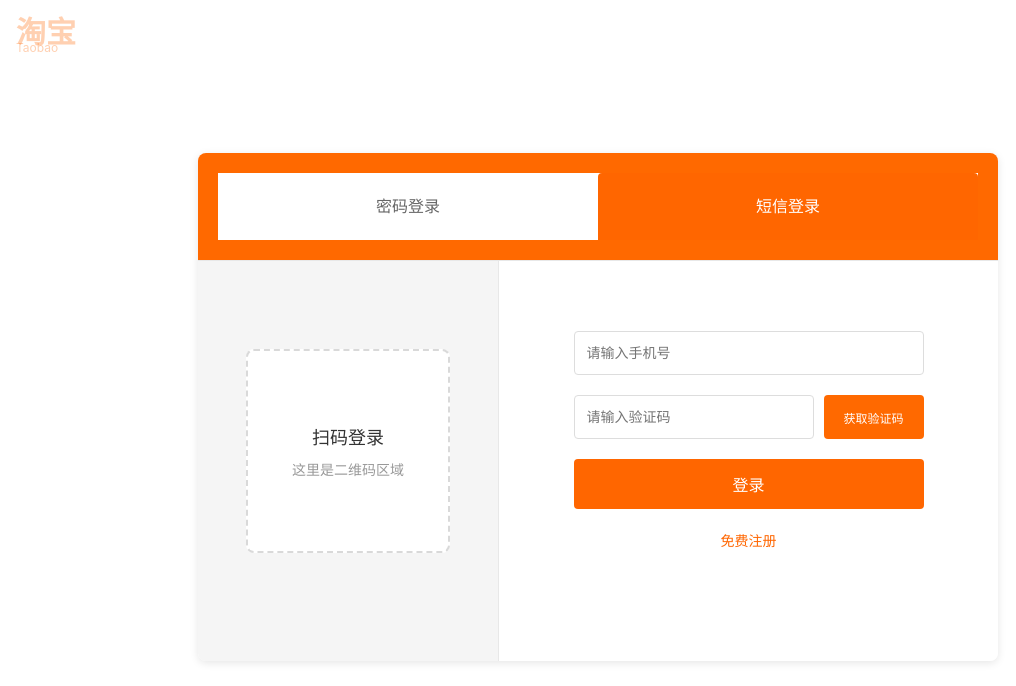
LoginForm › 应该正确处理网络错误
Type "13800138000" into the field with placeholder "请输入手机号". click: x=748, y=353
box: x1=574 y1=331 x2=924 y2=375
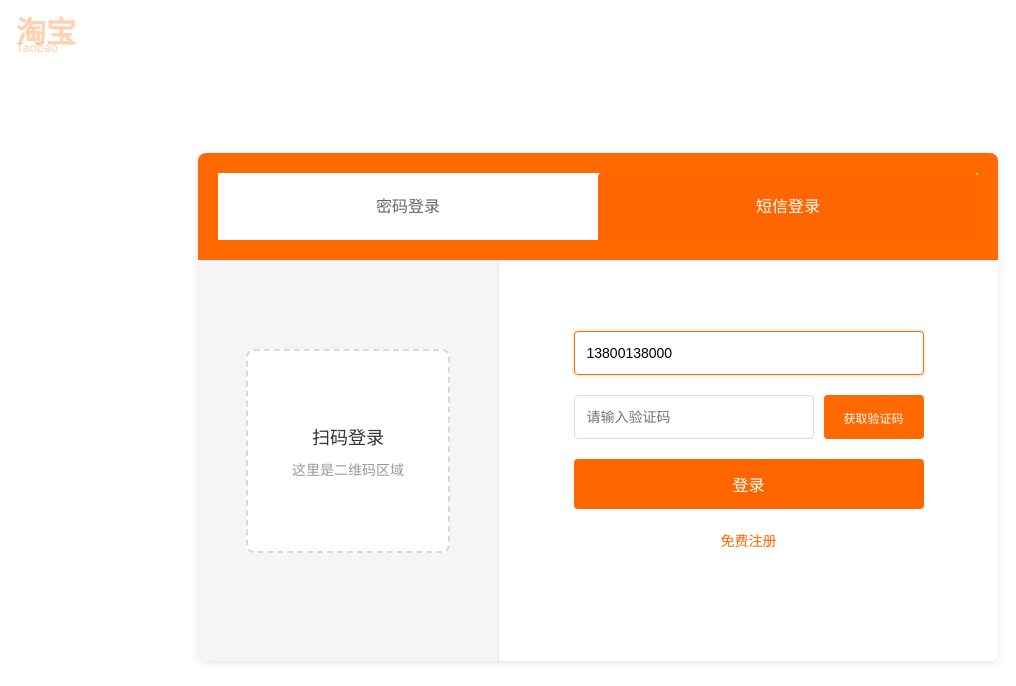
Type "123456" into the field with placeholder "请输入验证码". click: x=694, y=417
box: x1=574 y1=395 x2=814 y2=439
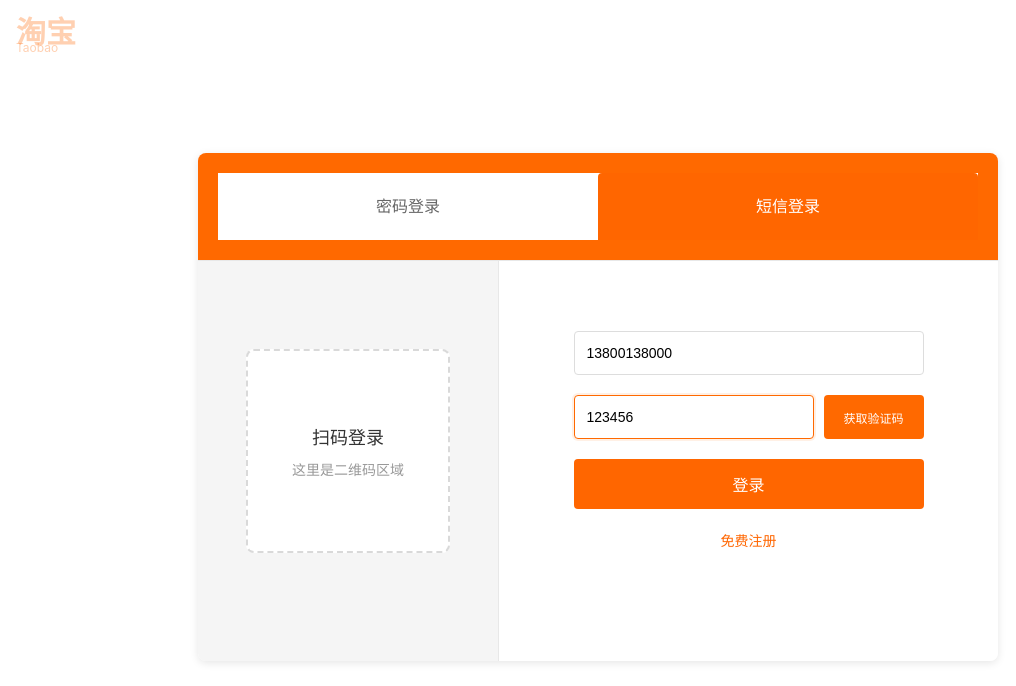
Note: 点击登录按钮并等待异步操作完成
Click the button "登录". click: x=748, y=484
box: x1=574 y1=459 x2=924 y2=509
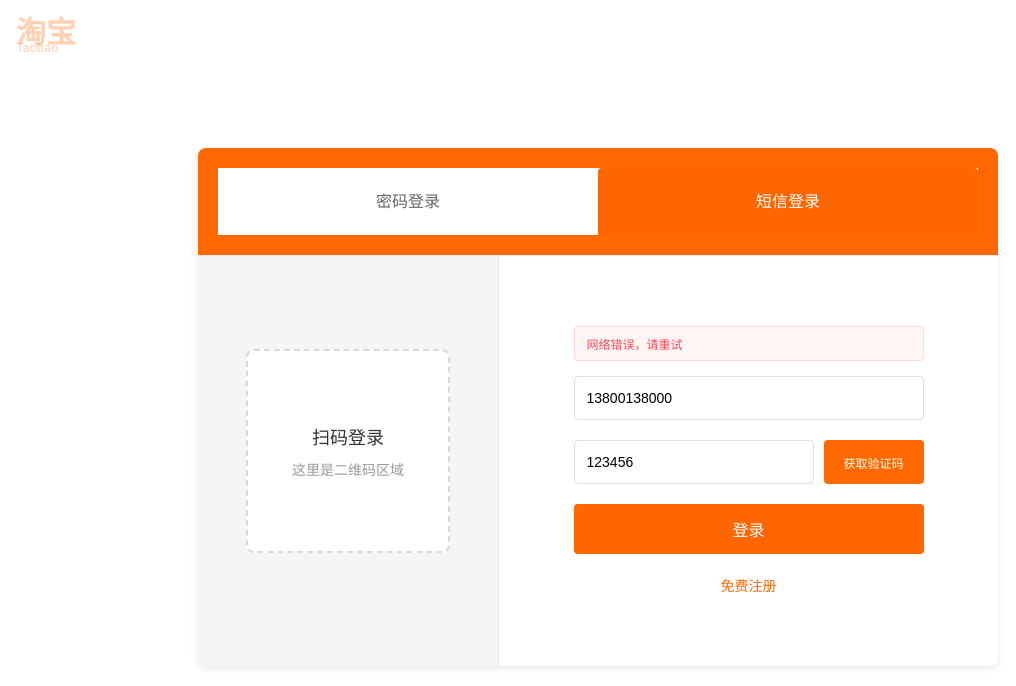
Now the text "网络错误，请重试" is shown, box x1=574 y1=326 x2=924 y2=361
